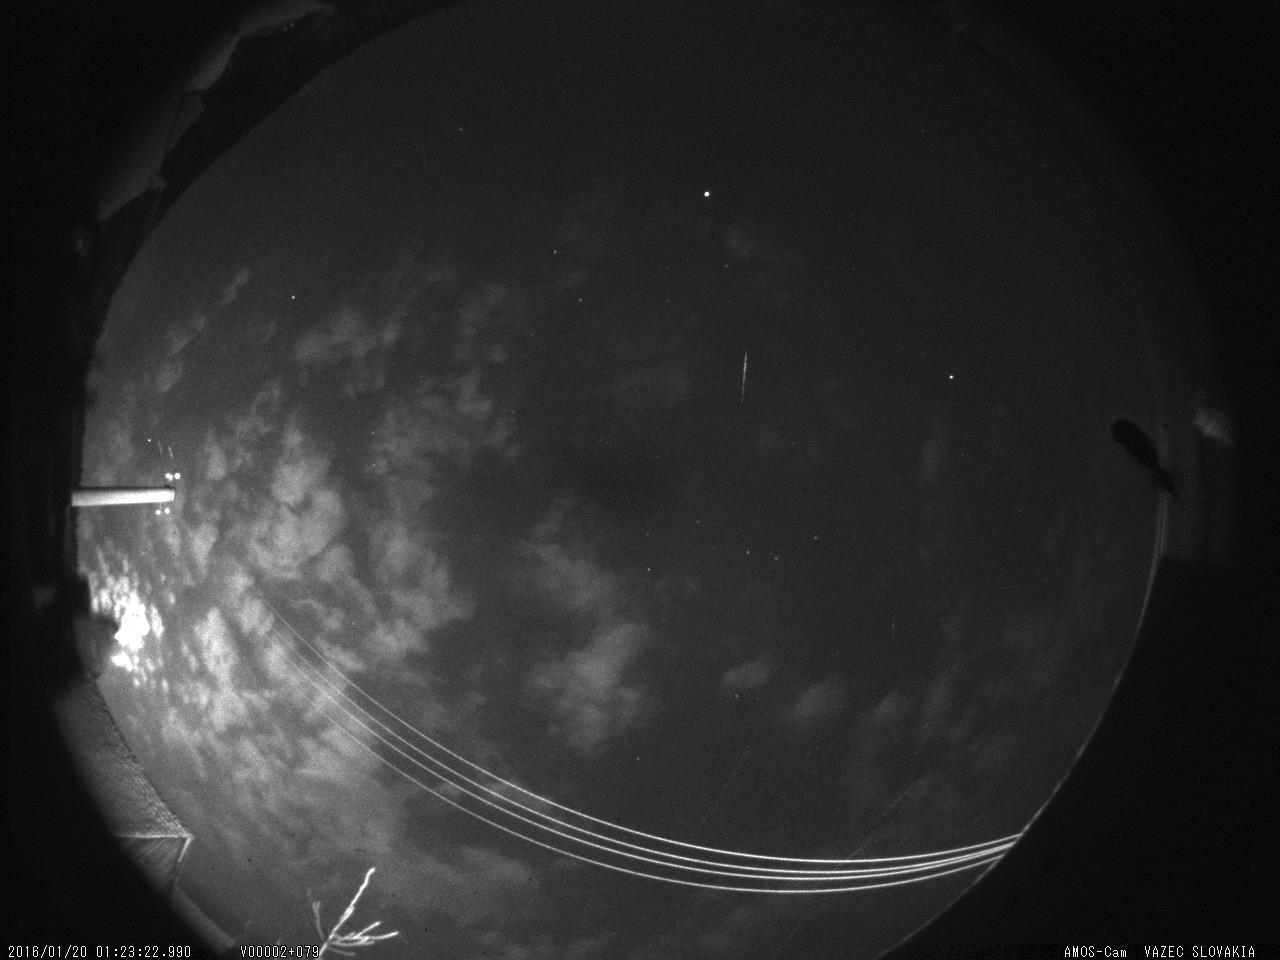Meteor: (736, 340, 758, 401)
